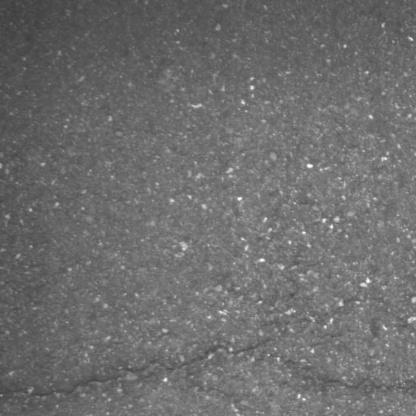Cracks: (0, 336, 278, 405), (321, 375, 416, 401)
